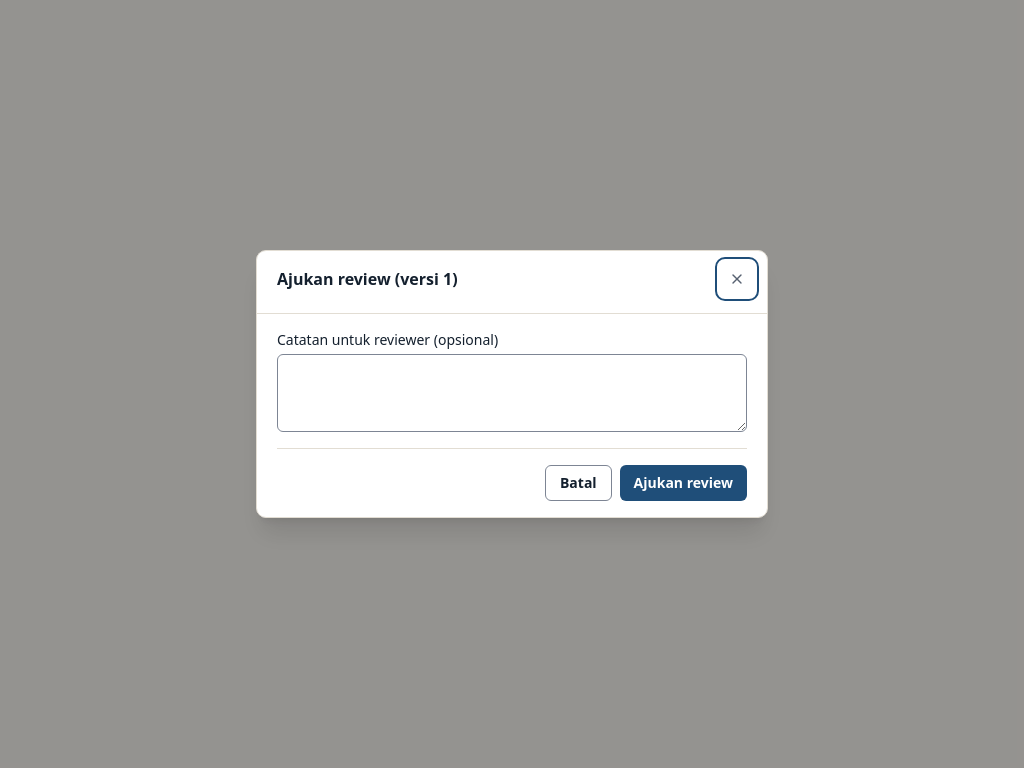
it: TransitionDialog › lists the validation errors that block submission
Click the button "Ajukan review" at (683, 483), box [620,465,747,501]
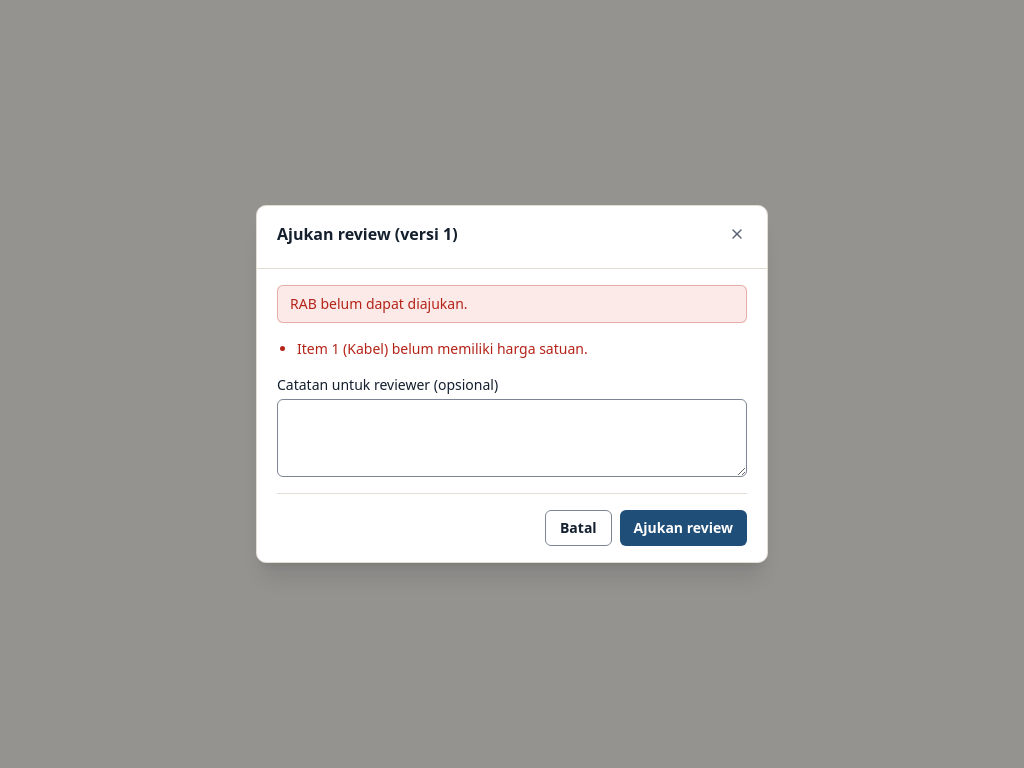
Expected: the list item "Item 1 (Kabel) belum memiliki harga satuan." is shown, [297,339,588,358]
